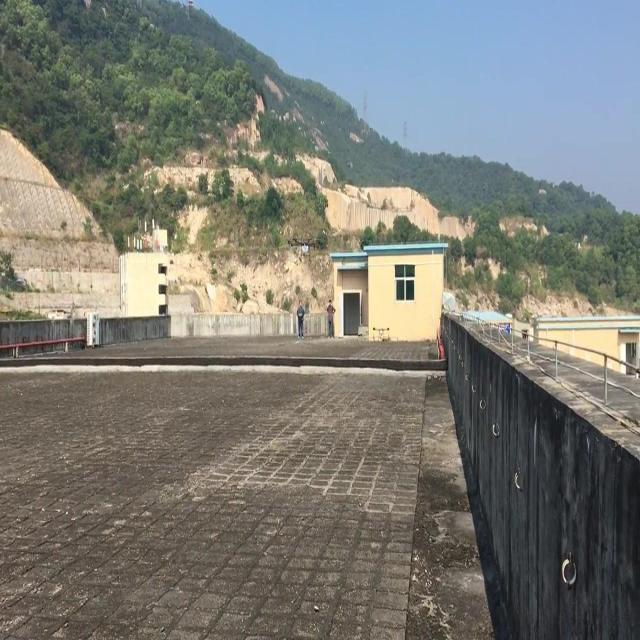drone: (287, 234, 323, 262)
